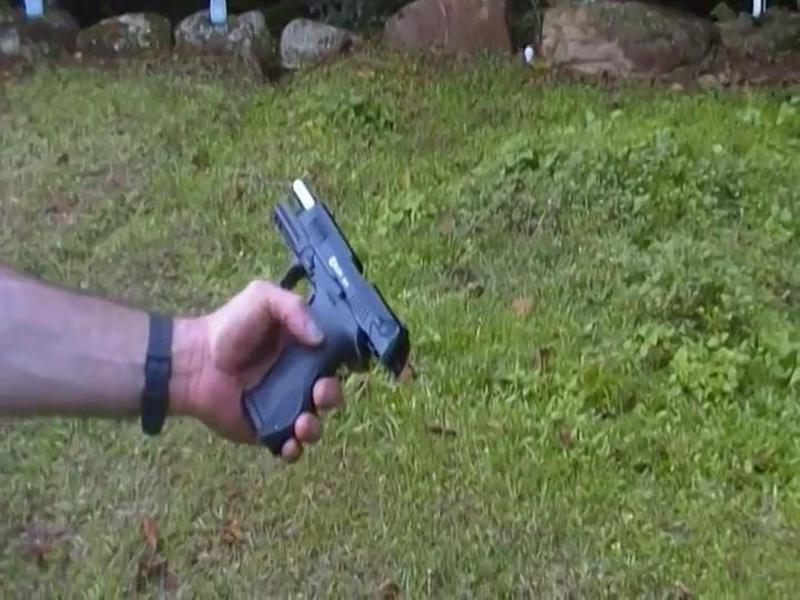Pistola: (223, 174, 429, 450)
